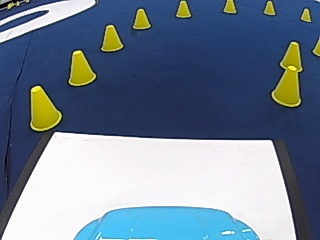cone: (270, 47, 303, 105), (28, 84, 62, 130), (67, 48, 96, 85), (279, 41, 303, 70), (100, 23, 123, 51), (132, 7, 150, 29), (175, 0, 191, 18), (262, 0, 275, 15), (223, 0, 236, 13), (311, 35, 319, 56), (299, 7, 311, 21)
